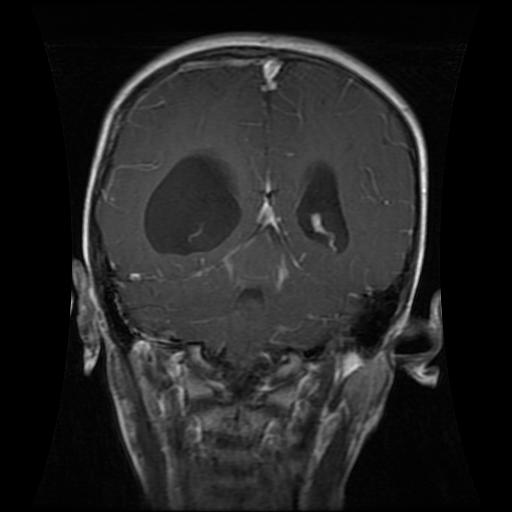Gliomia_tumour: (139, 147, 292, 292)
